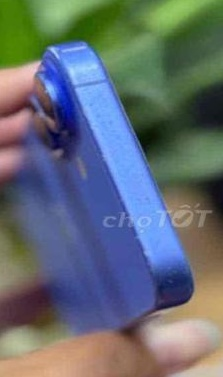scratch: (77, 87, 183, 293)
